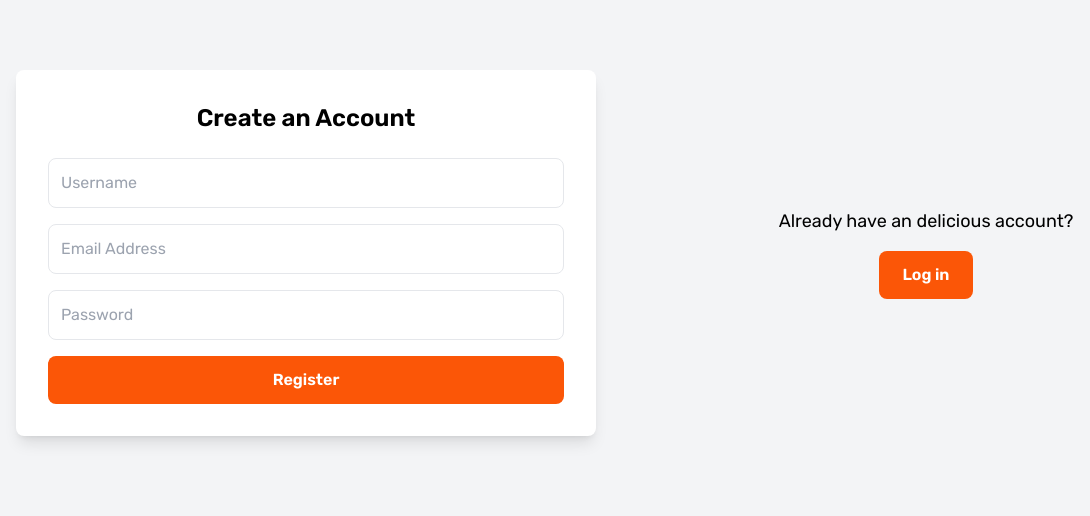
Test: SignUp Component › validates form inputs
This screenshot has width=1090, height=516.
Click the button "Register" at (306, 380), box [48,356,564,404]
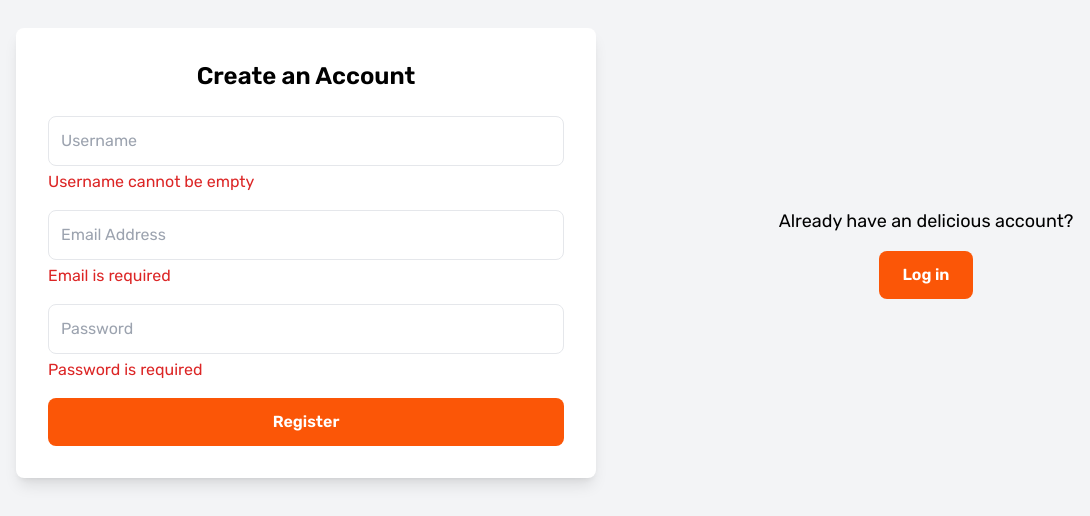
Expected: the text "Username cannot be empty" is shown, [48,172,254,191]
Expected: the text "Email is required" is shown, [48,266,171,285]
Expected: the text "Password is required" is shown, [48,360,202,379]
Type "as" into the field with placeholder "Username" at (306, 141), box [48,116,564,166]
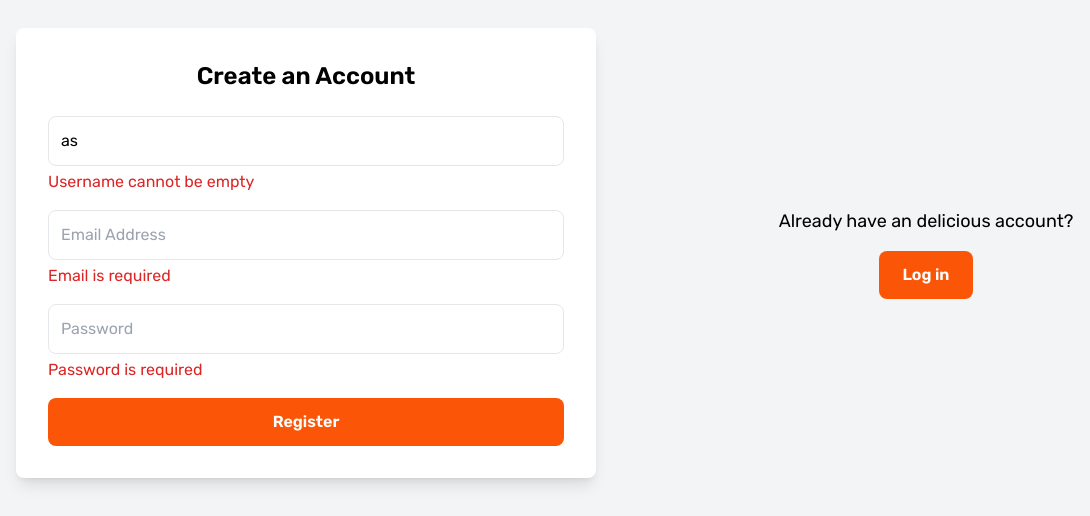
Type "invalid-email" into the field with placeholder "Email Address" at (306, 235), box [48,210,564,260]
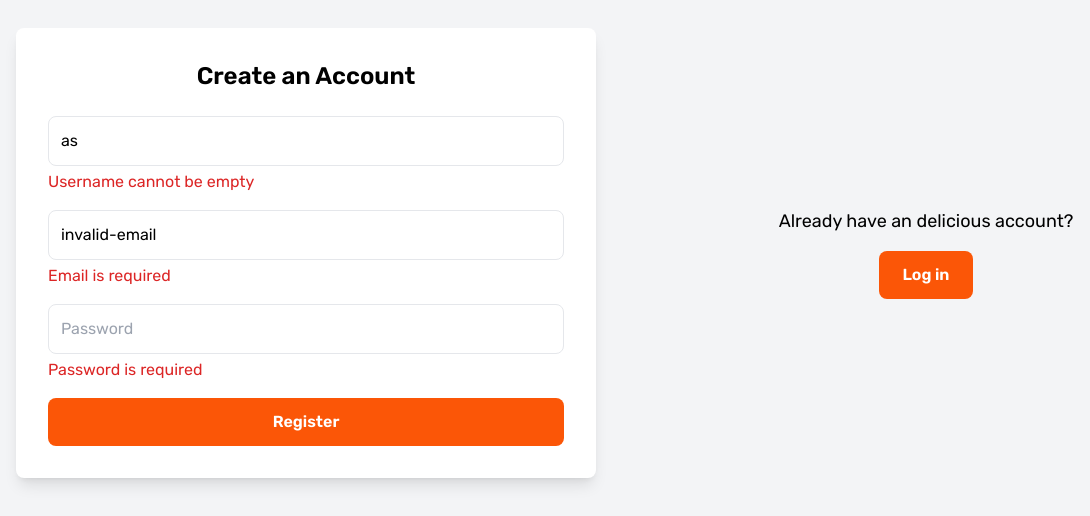
Type "qw123" into the password field with placeholder "Password" at (306, 329), box [48,304,564,354]
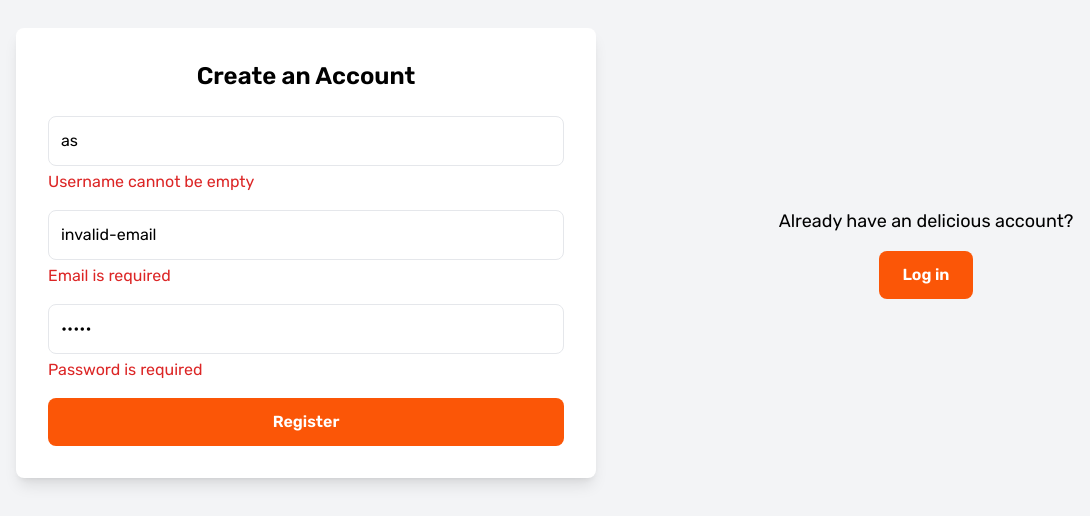
Click the button "Register" at (306, 422), box [48,398,564,446]
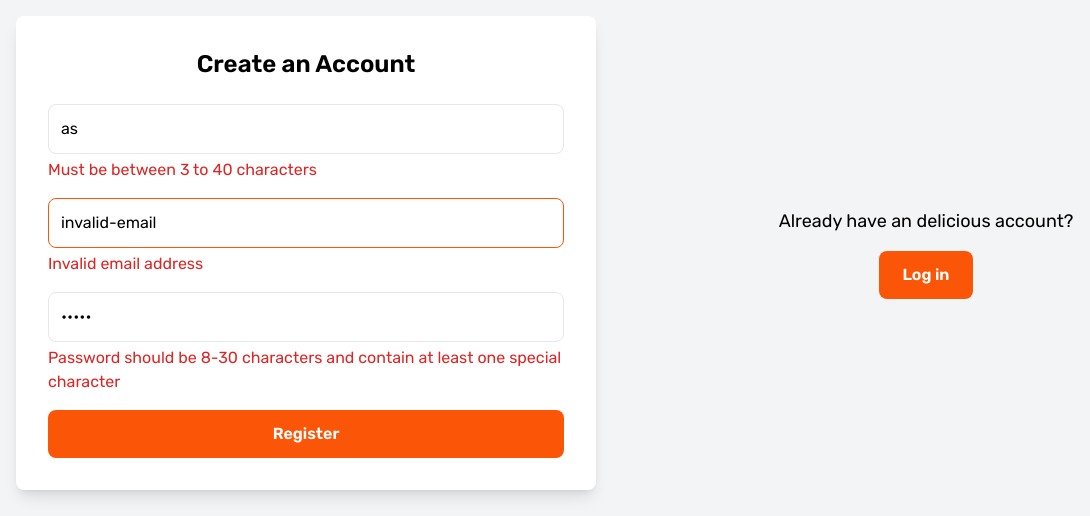
Expected: the text "Must be between 3 to 40 characters" is shown, [48,160,317,179]
Expected: the text "Invalid email address" is shown, [48,254,203,273]
Expected: the text "Password should be 8-30 characters and contain at least one special character" is shown, [48,346,564,394]
